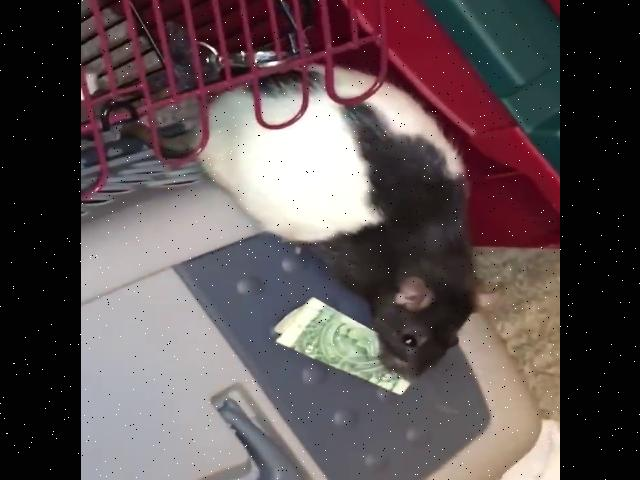Tikus: (186, 52, 504, 381)
